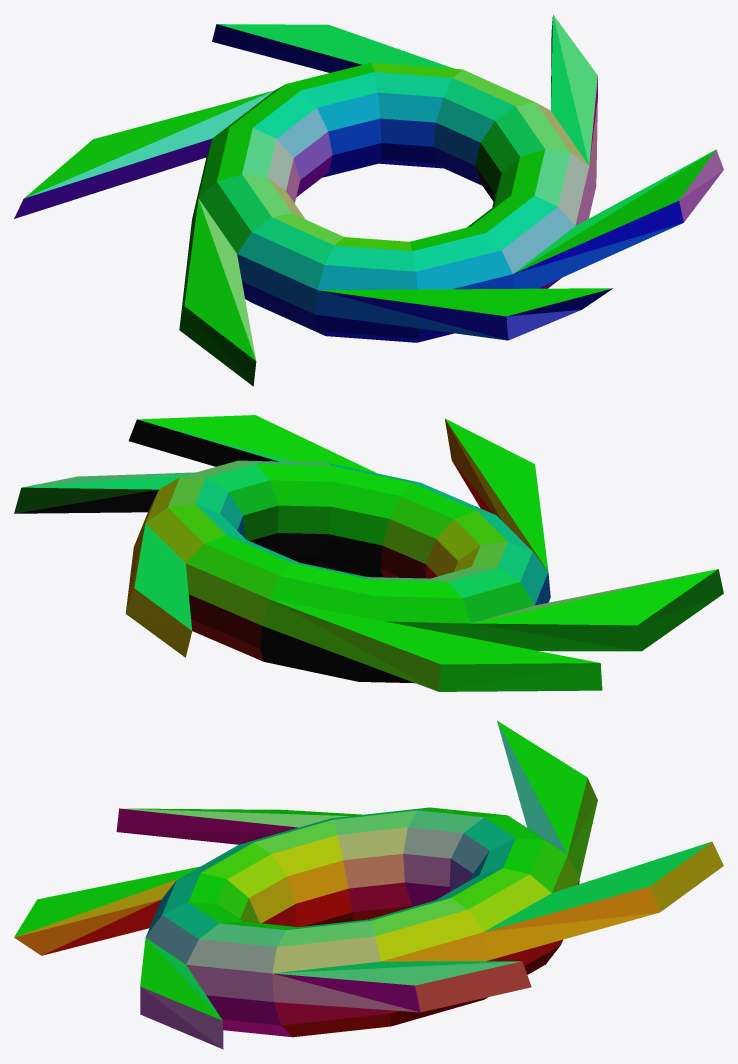
3 renders of one model, top to bottom at view 1: azimuth 30°, elevation 25°; view 2: azimuth 150°, elevation 25°; view 3: azimuth 270°, elevation 25°, orthographic. The views are drawn at different scales.
Visible parts, largest first — view 1: node_MeshObject-949762304-PolyPaper23; view 2: node_MeshObject-949762304-PolyPaper23; view 3: node_MeshObject-949762304-PolyPaper23.
Boxes of the visible parts, x1=… form: node_MeshObject-949762304-PolyPaper23: x1=14, y1=14, x2=723, y2=386; node_MeshObject-949762304-PolyPaper23: x1=14, y1=415, x2=723, y2=691; node_MeshObject-949762304-PolyPaper23: x1=14, y1=720, x2=723, y2=1049.
Size of the model in its own units: 3.72 by 0.9172 by 3.6.
